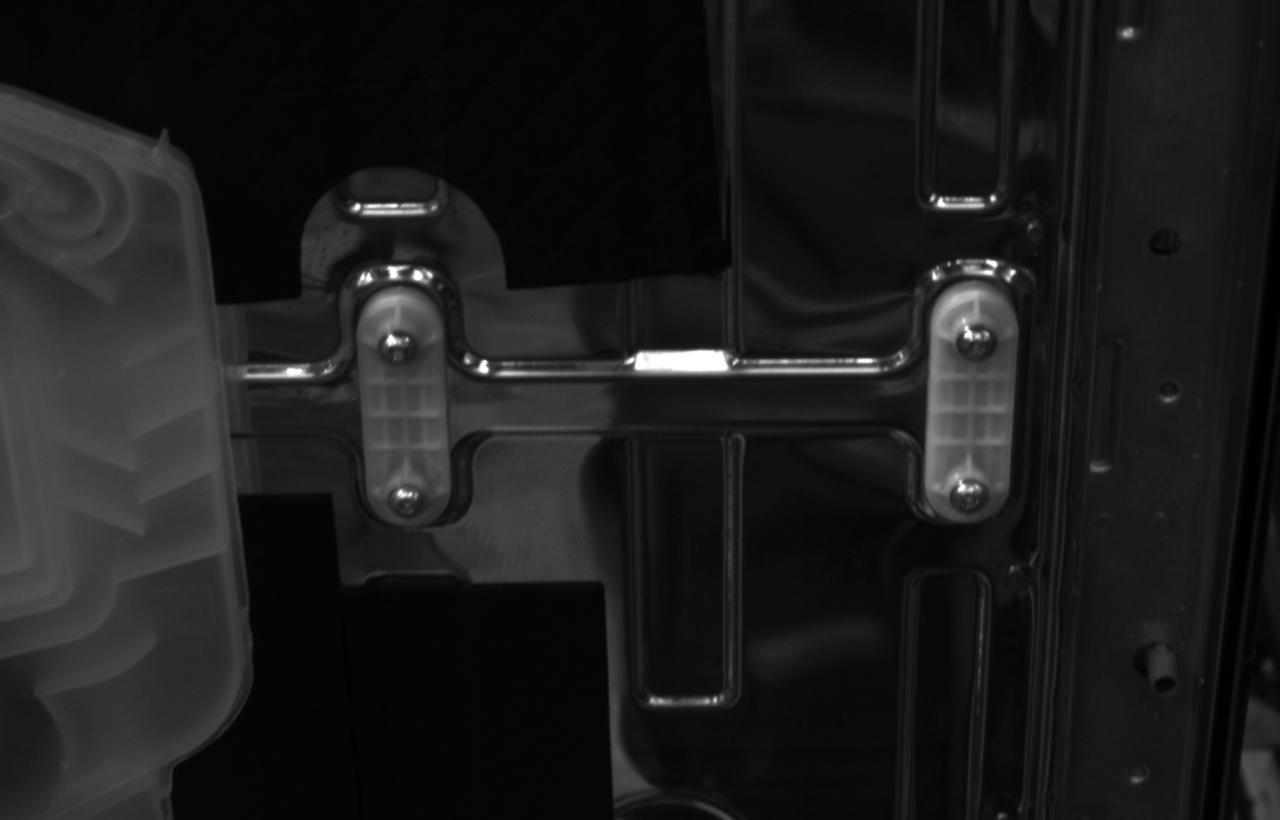vida-ok: (956, 323, 997, 362), (949, 479, 990, 514), (377, 330, 418, 364), (388, 485, 424, 518)
